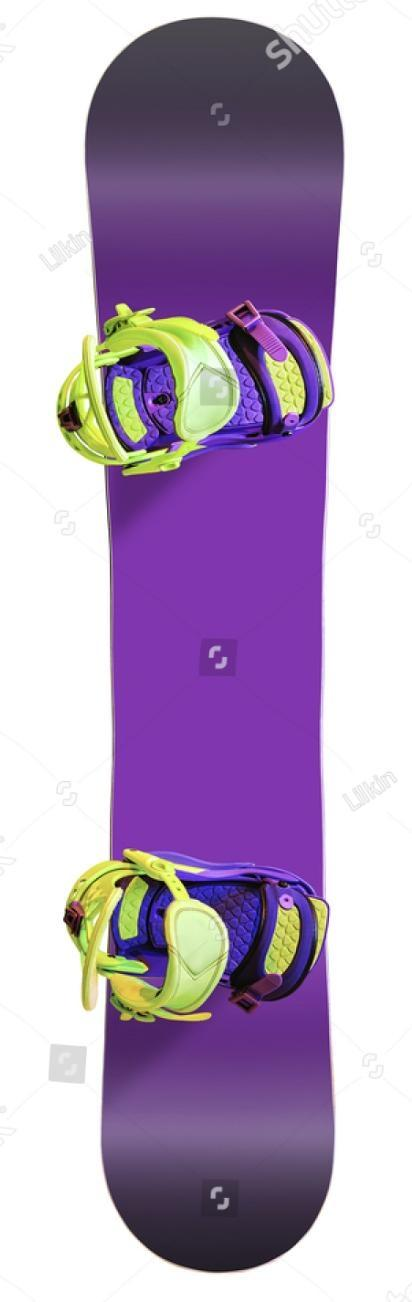Snowboard: (50, 14, 352, 1276)
